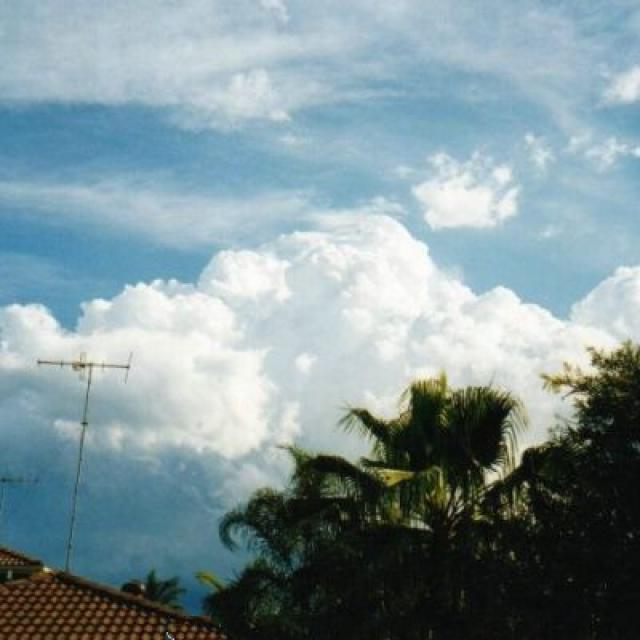Cs: (1, 48, 640, 388)
